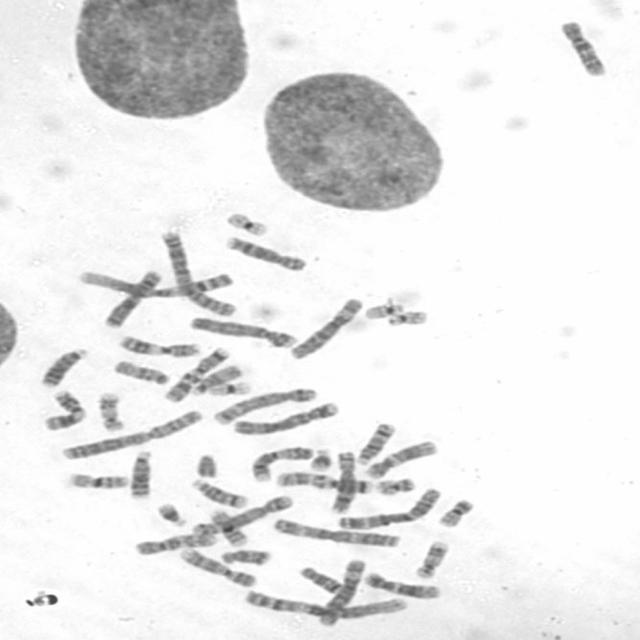A1: (241, 588, 410, 622), (73, 267, 237, 299)
A2: (56, 407, 206, 462), (158, 227, 238, 318)
A3: (334, 485, 444, 532), (268, 514, 403, 549)
B4: (229, 398, 342, 436), (185, 314, 299, 349)
B5: (187, 492, 296, 537), (209, 385, 320, 426)
C10: (556, 16, 609, 78), (130, 530, 219, 557)
C11: (115, 333, 202, 358), (39, 388, 87, 432)
C12: (361, 438, 439, 480), (360, 570, 442, 600)
C6: (286, 296, 365, 362), (314, 556, 368, 626)
C7: (160, 345, 230, 403), (272, 468, 374, 495)
C8: (222, 234, 308, 273), (325, 448, 359, 515)
C9: (177, 546, 258, 588), (248, 444, 314, 483)
D13: (36, 345, 90, 388), (125, 449, 154, 500)
D14: (352, 419, 397, 466), (188, 477, 250, 509)
D15: (188, 362, 244, 396), (109, 357, 171, 386)
E16: (207, 507, 250, 548), (65, 471, 131, 490)
E17: (412, 538, 451, 579), (96, 389, 126, 434)
E18: (296, 563, 343, 594), (217, 547, 272, 566)
F19: (222, 209, 271, 238), (205, 378, 253, 397)
F20: (434, 496, 476, 528), (372, 474, 416, 496)
G21: (153, 500, 189, 528), (305, 446, 335, 472)
G22: (360, 300, 406, 321), (382, 308, 430, 327)
X: (98, 267, 164, 329)
Y: (192, 452, 220, 479)
